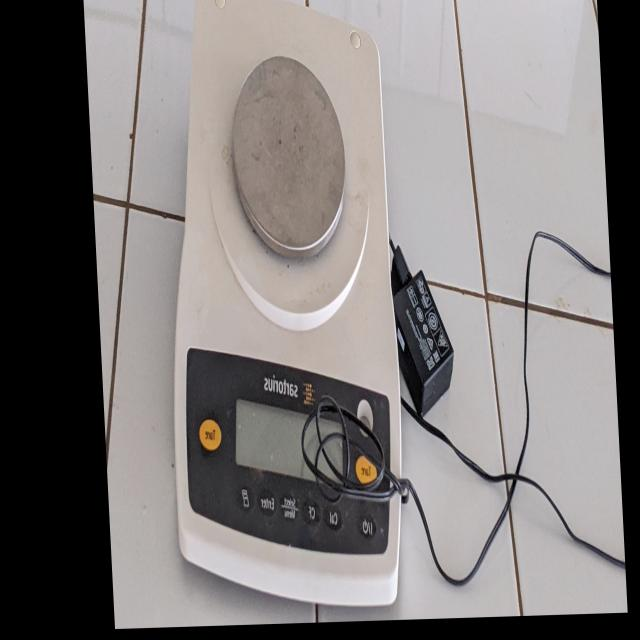Electronic Balance: (143, 0, 414, 619)
